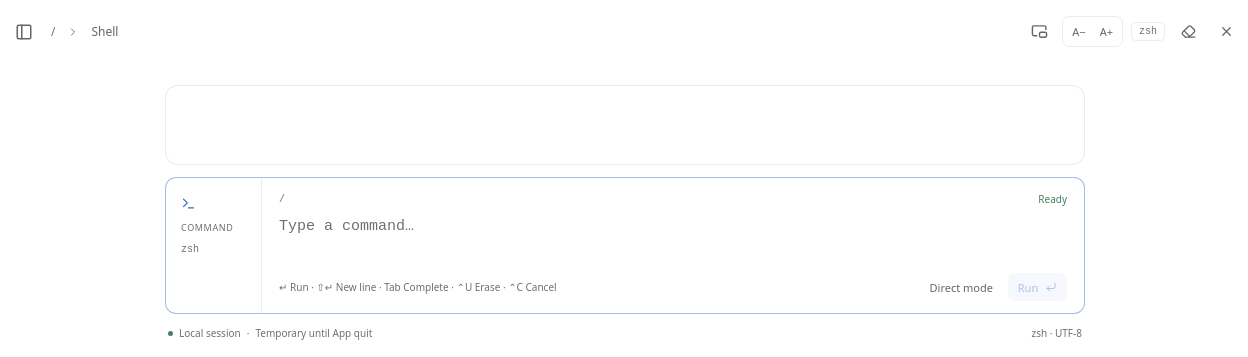
Ctrl-C clears an idle draft and interrupts a running foreground from its draft editor
Later steps or results of the test are not shown.
Type "cancel me" into the text box named "Terminal command". click: (673, 239)
box: [279,215,1067,263]
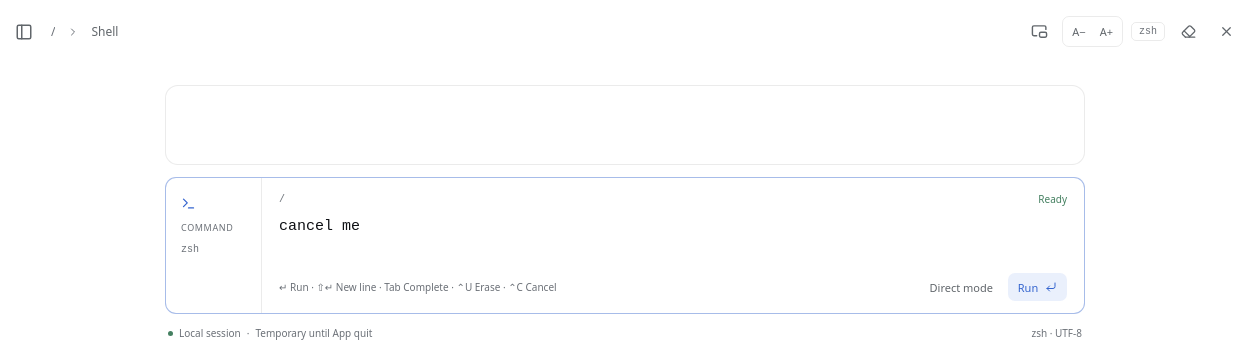
Press c in the text box named "Terminal command", box [279,215,1067,263]
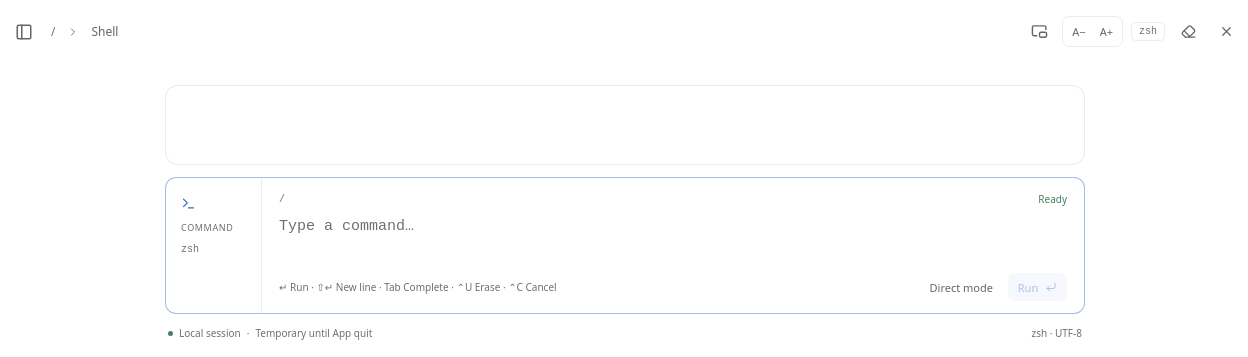
Check: the text box named "Terminal command" is empty, box [279,215,1067,263]
